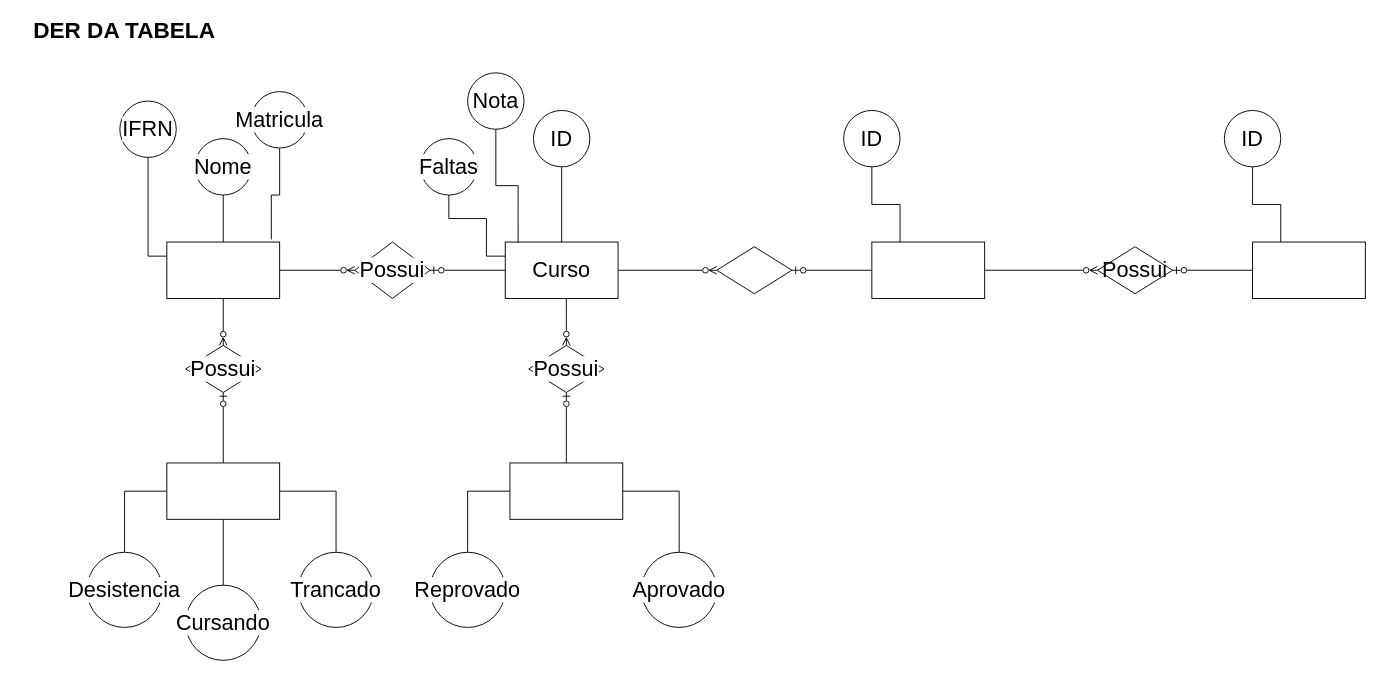
The diagram is 1382 pixels wide and 677 high, and some of its shapes have lost their labels. Here are the shapes that lost their labels. From the top down, the centre of each, then its label:
At (x=223, y=269): "Aluno".
At (x=754, y=270): "Tem".
At (x=928, y=269): "Disciplina".
At (x=1308, y=269): "Professor".
At (x=223, y=490): "Status".
At (x=566, y=490): "Situação".
